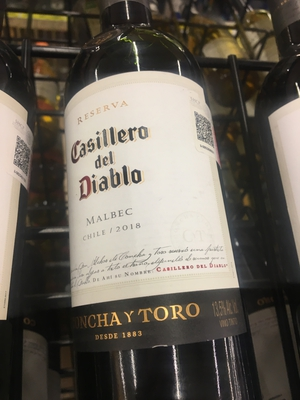casillero del diablo malbec: (59, 38, 252, 400)
